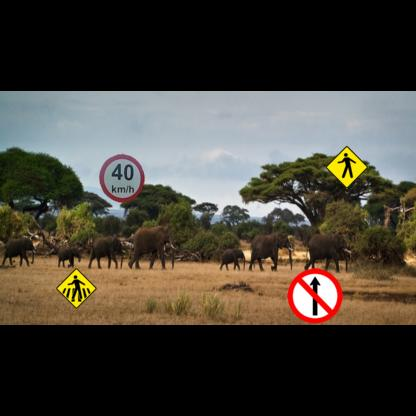A-32a: (325, 146, 368, 189)
A-32b: (56, 268, 97, 309)
R-19: (99, 154, 145, 202)
R-3: (287, 268, 343, 323)
